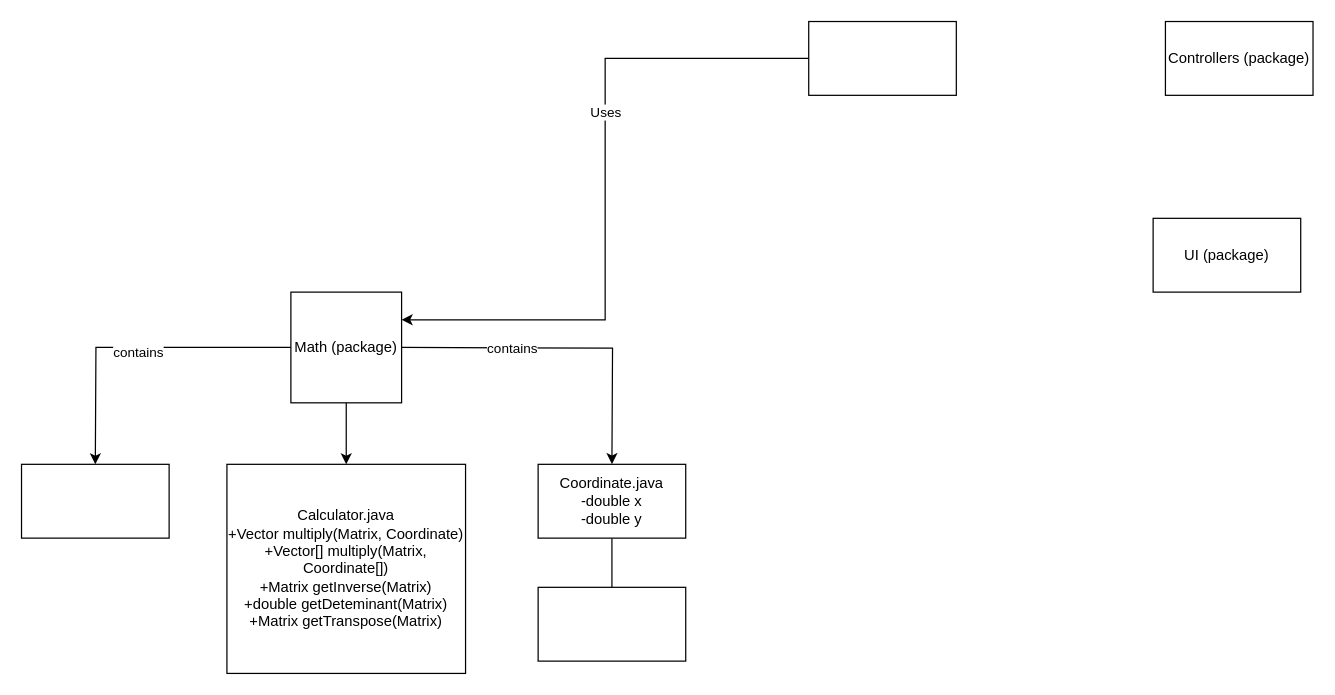
Some shapes in this 1335 by 695 pixel diagram are drawn without their labels. Here are the shapes that lost their labels. From the top down, the box of each, then its label:
(807, 20, 956, 95): Driver/Test(package)
(20, 463, 169, 538): Matrix.java -double a,b,c,d
(537, 586, 686, 661): Vector.java -double magnitude
